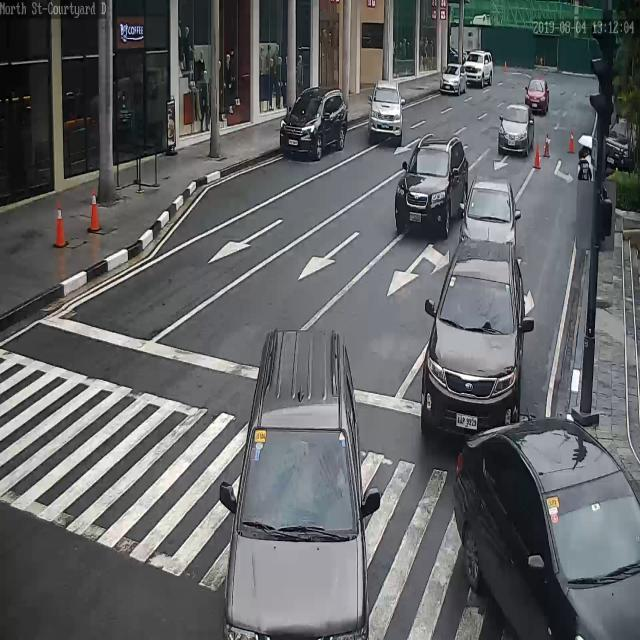car: (225, 329, 368, 640), (453, 421, 640, 640), (422, 239, 526, 440), (395, 135, 468, 236), (279, 86, 350, 161), (460, 176, 515, 247), (605, 115, 640, 177), (368, 82, 402, 139), (498, 104, 534, 155), (464, 49, 494, 84), (440, 63, 470, 94), (524, 79, 550, 114)
motorcycle: (450, 25, 483, 55)
